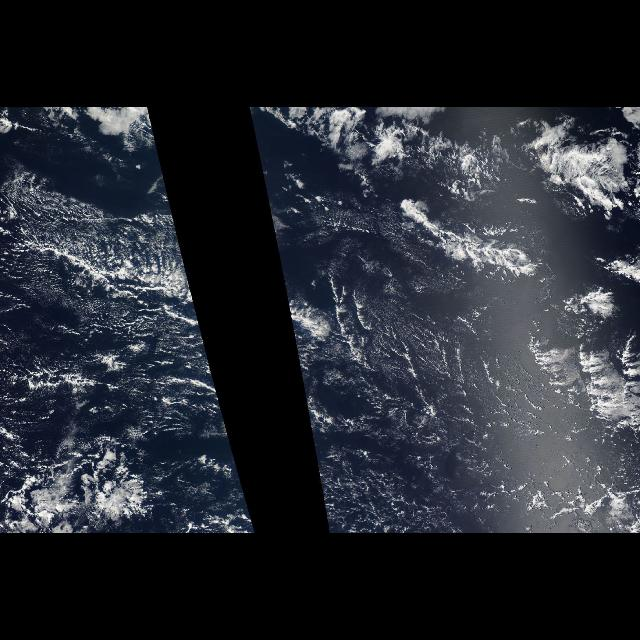Fish: (0, 189, 202, 331), (266, 190, 280, 262)
Sugar: (319, 282, 537, 464)
